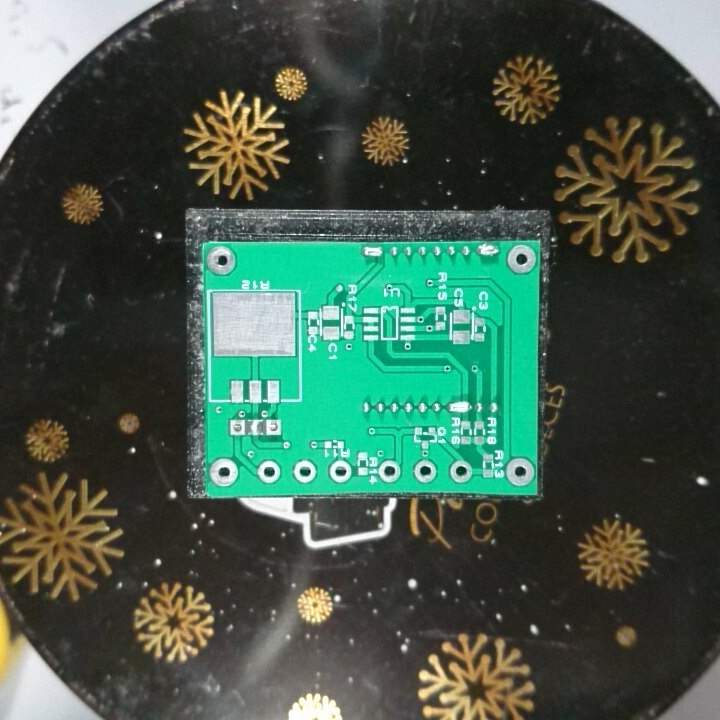F: (204, 243, 239, 277), (207, 455, 240, 490), (505, 243, 536, 280), (503, 455, 535, 487), (254, 456, 286, 486), (376, 457, 405, 486), (291, 456, 318, 486), (411, 456, 438, 485), (327, 456, 352, 486), (449, 459, 471, 483), (227, 417, 247, 439), (264, 417, 284, 438)
P: (445, 397, 474, 418), (475, 244, 500, 259), (361, 245, 384, 259)
